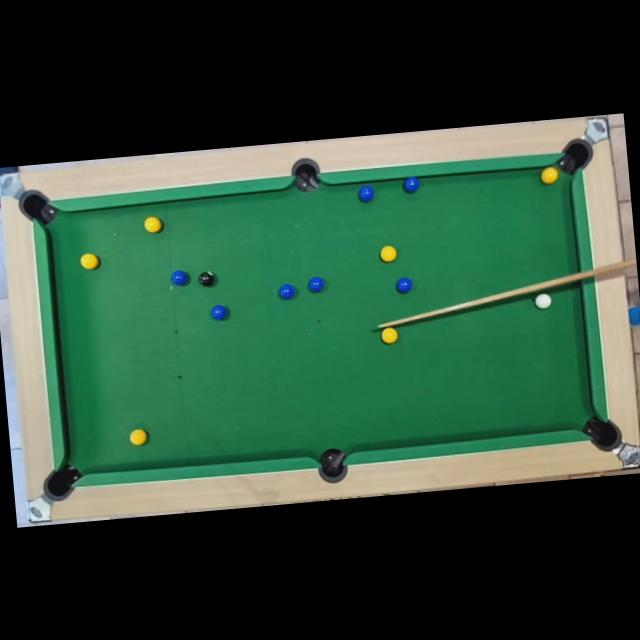Ball: (128, 428, 147, 446), (80, 252, 98, 270), (143, 216, 161, 233), (540, 166, 558, 183), (356, 185, 374, 202), (381, 326, 398, 344), (400, 178, 417, 195), (395, 277, 412, 294), (380, 245, 397, 262), (210, 304, 226, 322), (276, 283, 294, 299), (534, 294, 552, 310), (198, 270, 214, 286), (308, 276, 324, 292), (172, 270, 188, 286)
